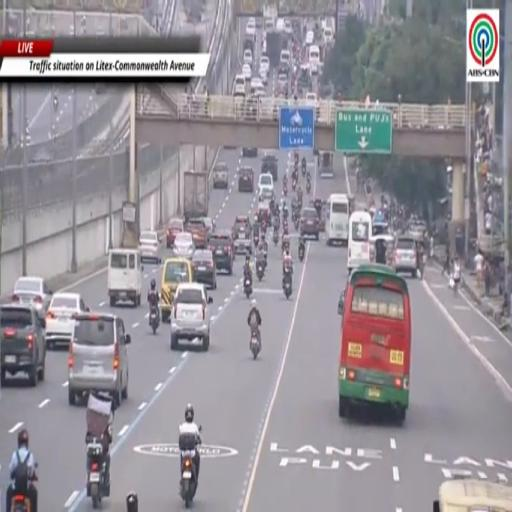bus: (339, 264, 411, 424), (348, 211, 372, 274), (326, 194, 354, 246)
car: (68, 312, 131, 407), (0, 303, 46, 387), (171, 283, 212, 350), (46, 293, 89, 349), (11, 277, 52, 310), (208, 230, 235, 276), (192, 249, 217, 289), (393, 236, 416, 277), (139, 231, 161, 263), (233, 216, 251, 253), (300, 207, 319, 239), (186, 218, 206, 248), (173, 232, 195, 259), (167, 218, 184, 248), (261, 155, 278, 182), (238, 166, 254, 193), (213, 163, 229, 188), (202, 217, 215, 241), (259, 173, 273, 195), (251, 76, 263, 93), (260, 189, 275, 201), (277, 73, 288, 89), (246, 18, 255, 36), (259, 68, 268, 85), (260, 56, 269, 72), (284, 19, 293, 35), (243, 50, 252, 66), (234, 85, 245, 98), (242, 148, 257, 157), (305, 30, 314, 45), (242, 64, 251, 79), (256, 18, 262, 28)
motorcycle: (86, 395, 113, 509), (86, 438, 109, 509), (180, 444, 197, 508), (9, 492, 30, 511), (250, 329, 260, 359), (149, 307, 160, 334), (283, 269, 291, 299), (244, 278, 252, 298), (256, 262, 264, 281), (298, 244, 305, 262), (292, 207, 298, 222), (294, 216, 300, 230), (292, 169, 298, 182), (273, 230, 278, 245), (293, 163, 298, 176), (306, 181, 311, 194), (283, 185, 287, 197), (302, 163, 306, 175), (292, 180, 296, 190)
truck: (183, 171, 208, 221), (266, 29, 282, 68), (319, 152, 333, 178)
